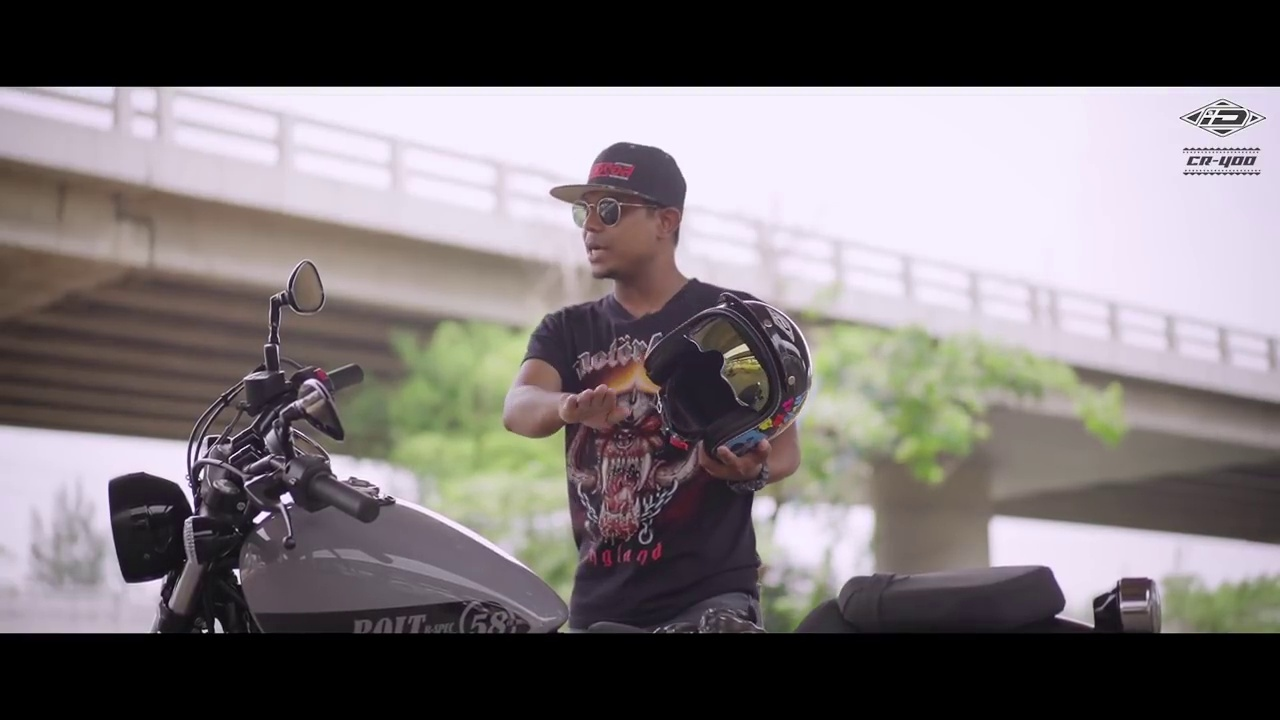helmet: (635, 290, 823, 455)
